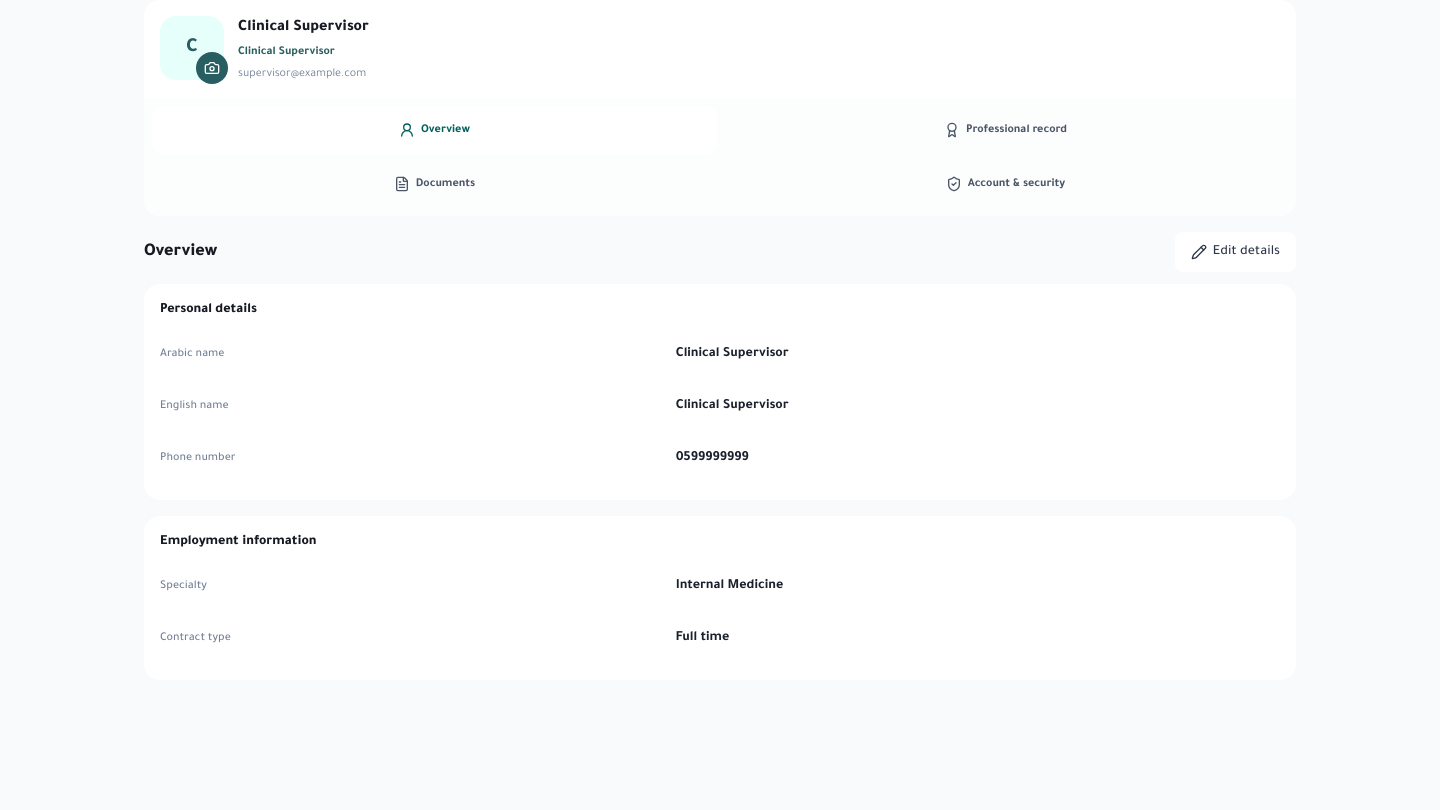
Test case: MyProfilePage › lets a user reach professional, documents and security sections from the same compact navigation
Click the button "Professional record".
click(1006, 130)  # box top-left (723, 106), bottom-right (1288, 154)
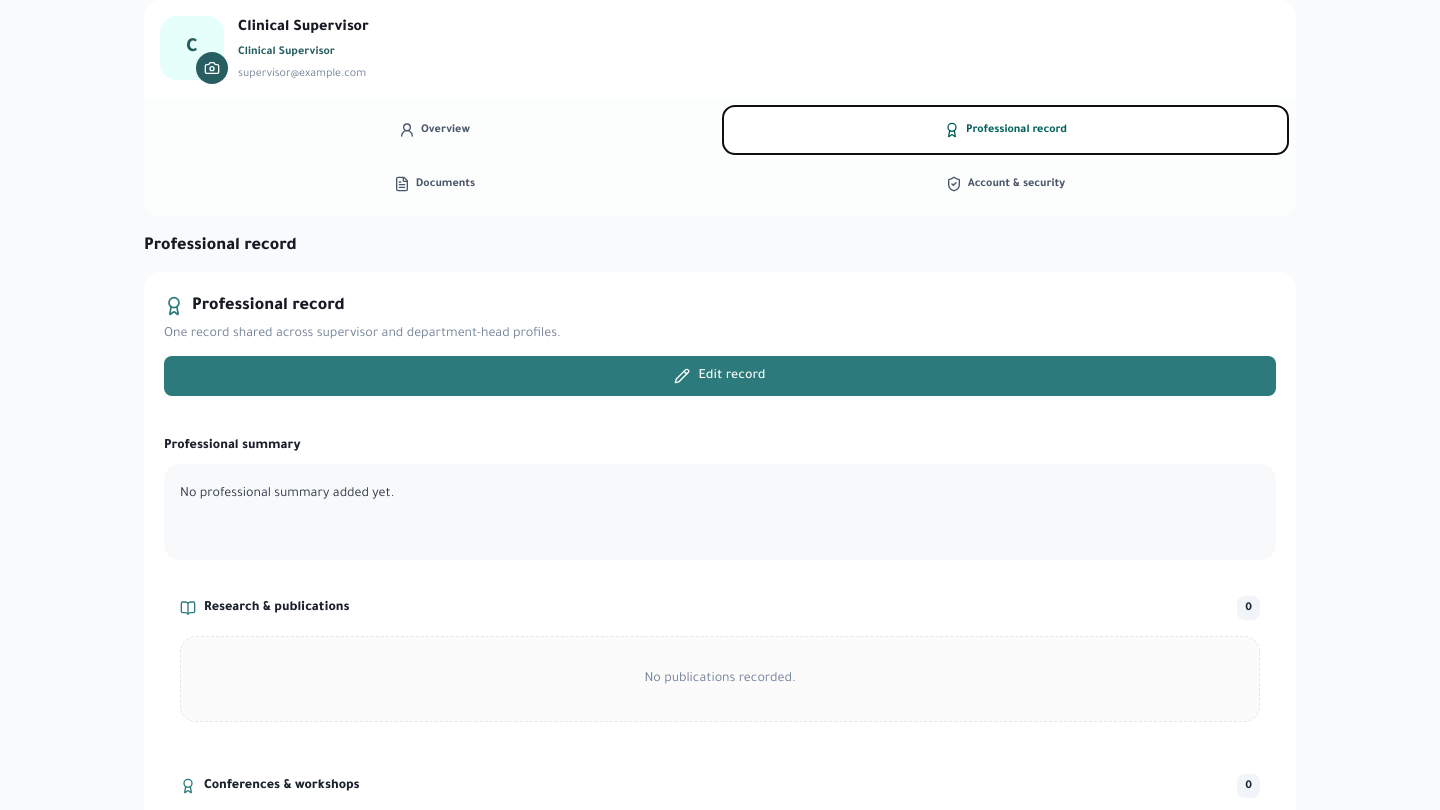
Check: the heading "Professional summary" is shown, box top-left (164, 439), bottom-right (300, 453)
Click the button "Documents".
click(434, 184)  # box top-left (152, 160), bottom-right (717, 208)
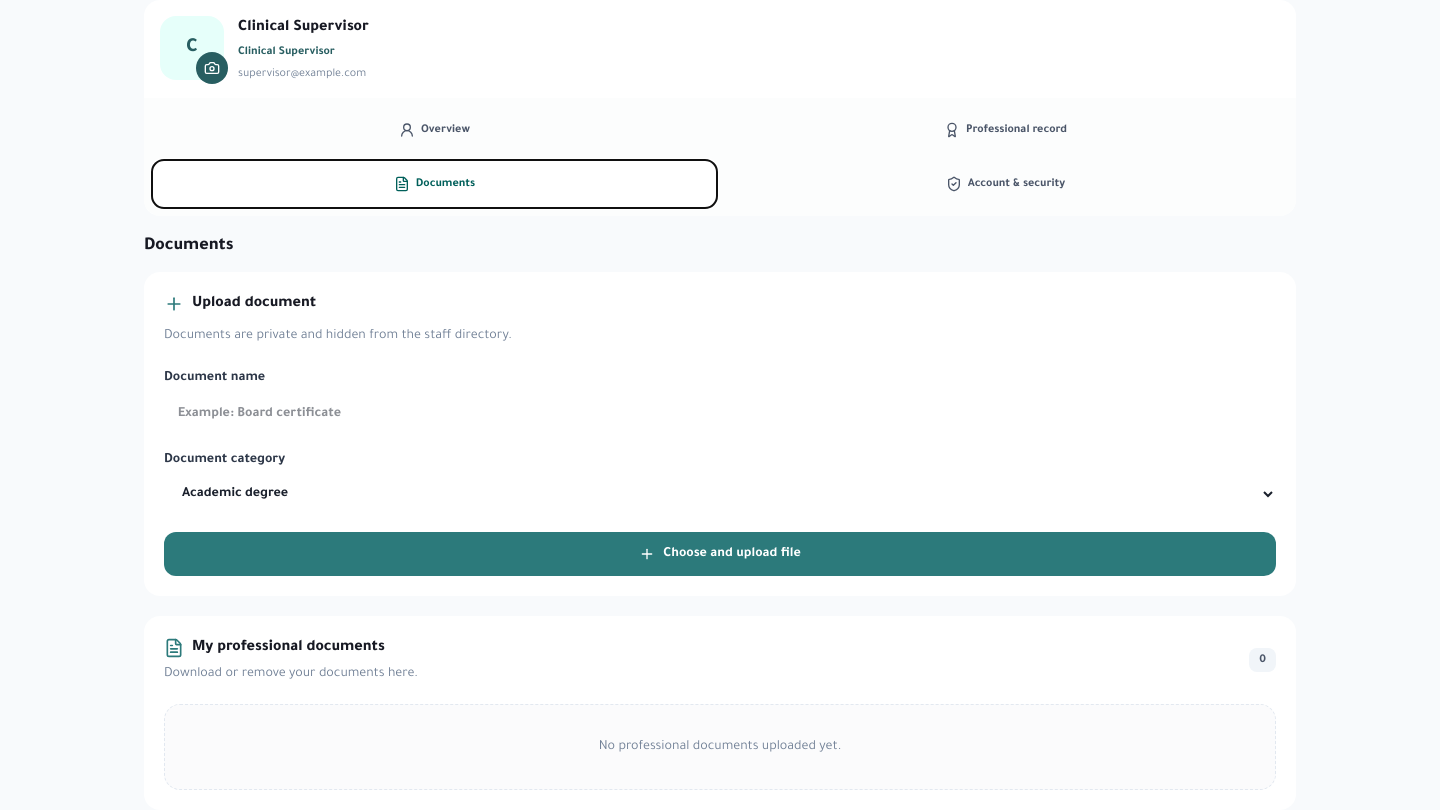
Check: the heading "Upload document" is shown, box top-left (164, 294), bottom-right (316, 314)
Click the button "Account & security".
click(1006, 184)  # box top-left (723, 160), bottom-right (1288, 208)
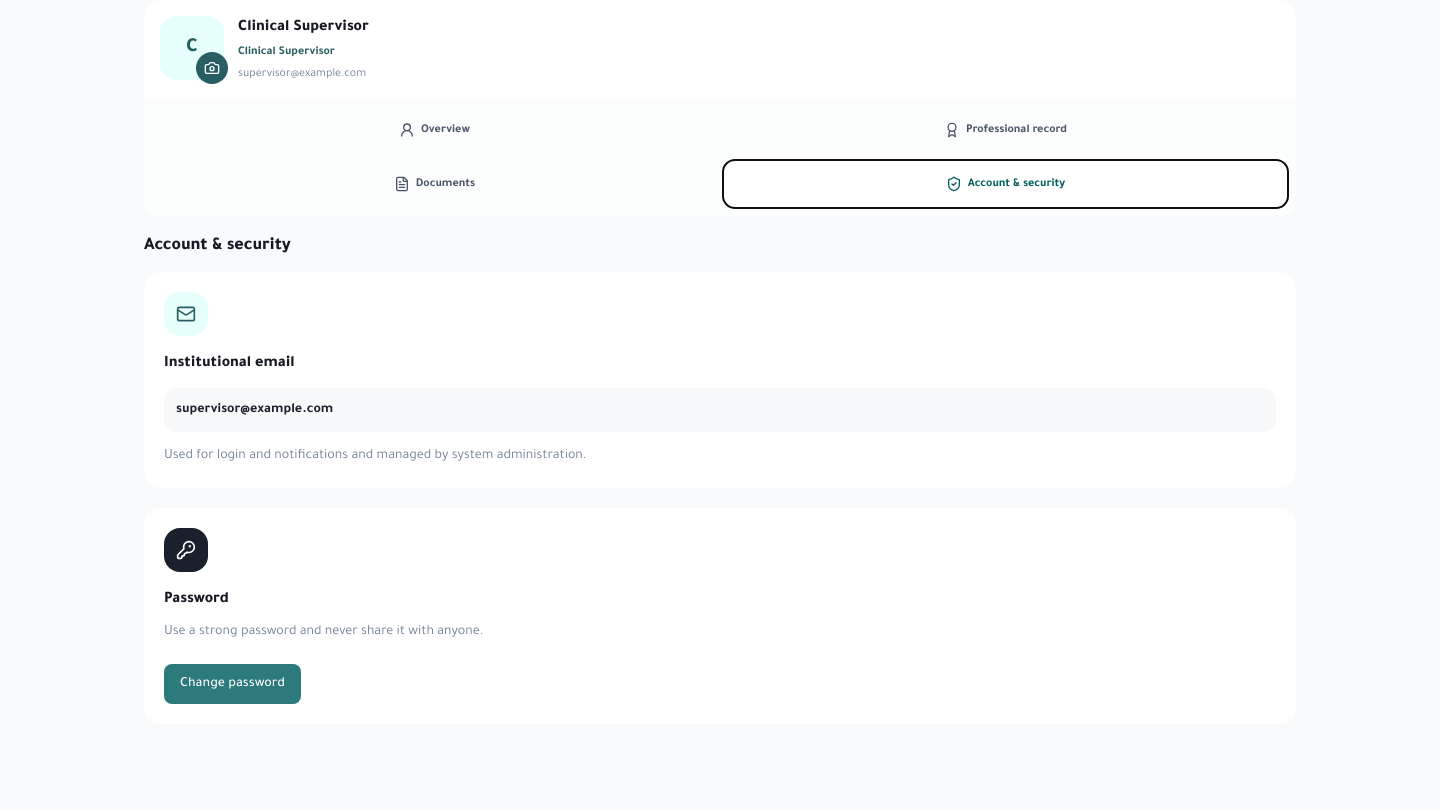
Check: the button "Change password" is shown, box top-left (164, 664), bottom-right (301, 704)
